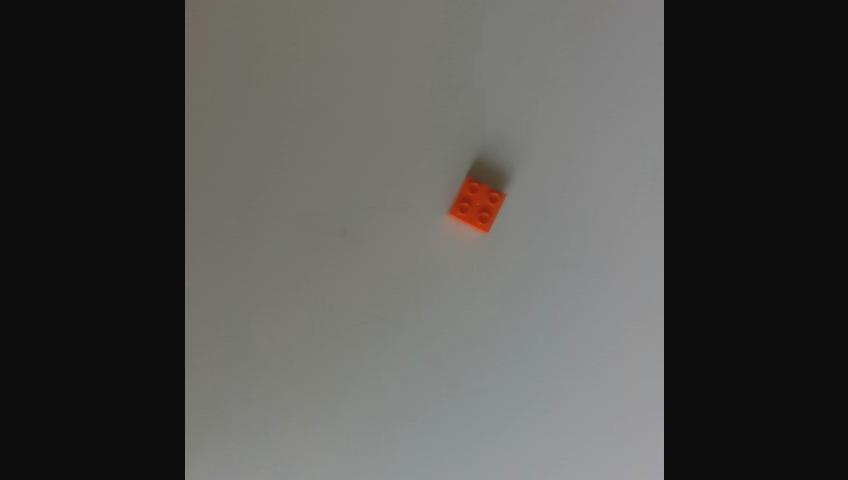2x2_orange: (449, 178, 505, 233)
